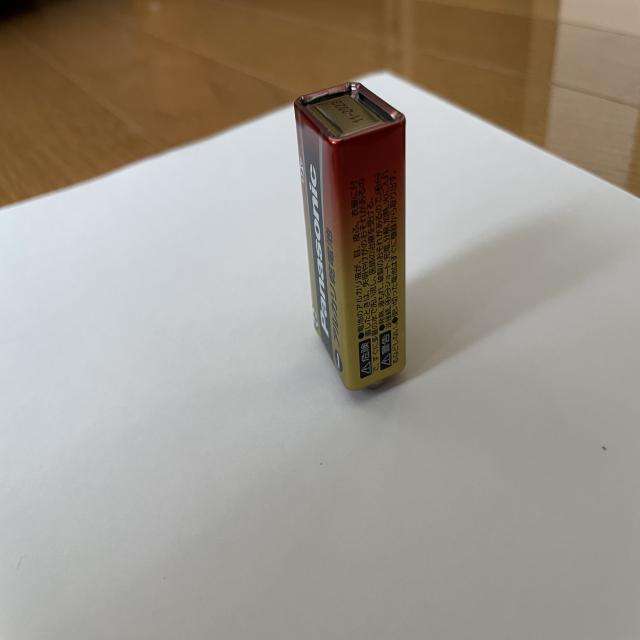9V: (294, 81, 406, 391)
